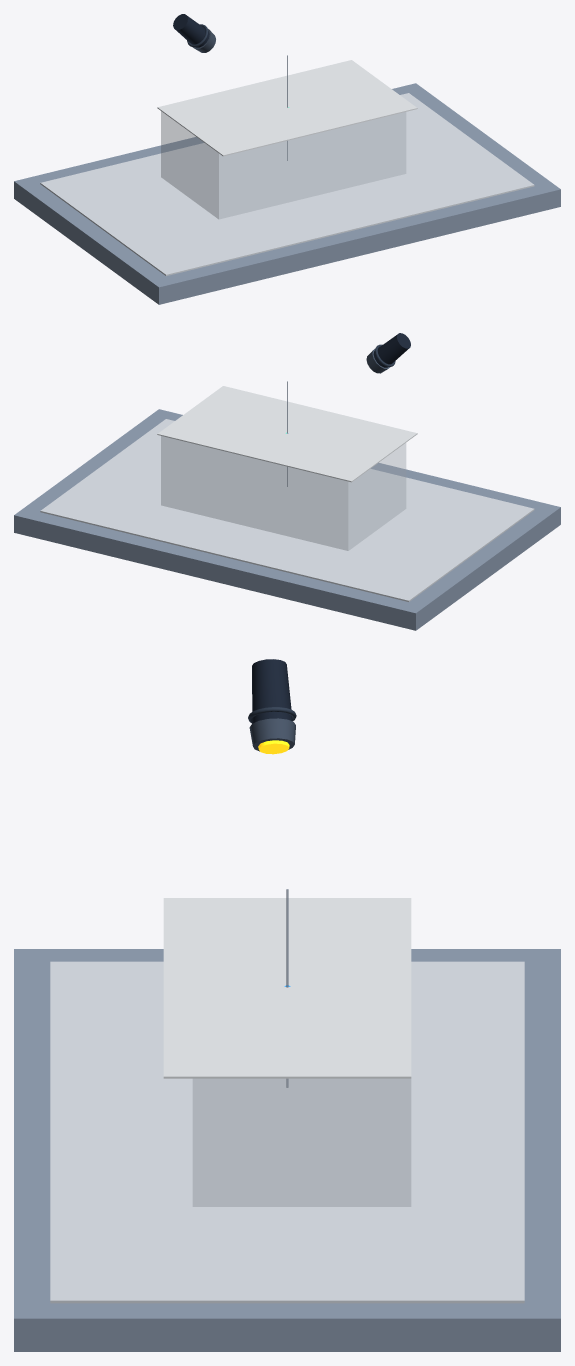
File: light-optics.glb
3 renders of one model, top to bottom at view 1: azimuth 30°, elevation 25°; view 2: azimuth 150°, elevation 25°; view 3: azimuth 270°, elevation 25°, orthographic. The views are drawn at different scales.
Parts seen in each view (by area): view 1: OpticsTable, Block_kaca, InterfacePlane, Flashlight; view 2: OpticsTable, Block_kaca, InterfacePlane, Flashlight; view 3: OpticsTable, InterfacePlane, Block_kaca, Flashlight.
Part boxes in pixels (x1,y1,x2,y2): OpticsTable: (14,83,560,304); Block_kaca: (161,111,405,219); InterfacePlane: (157,60,417,156); Flashlight: (173,14,215,52); OpticsTable: (14,409,560,630); Block_kaca: (161,435,405,550); InterfacePlane: (157,386,417,482); Flashlight: (366,333,410,373); OpticsTable: (14,949,560,1351); InterfacePlane: (163,898,411,1078); Block_kaca: (193,1079,410,1206); Flashlight: (248,659,296,754).
Size of the model in its own units: 0.288 by 0.1488 by 0.18.
